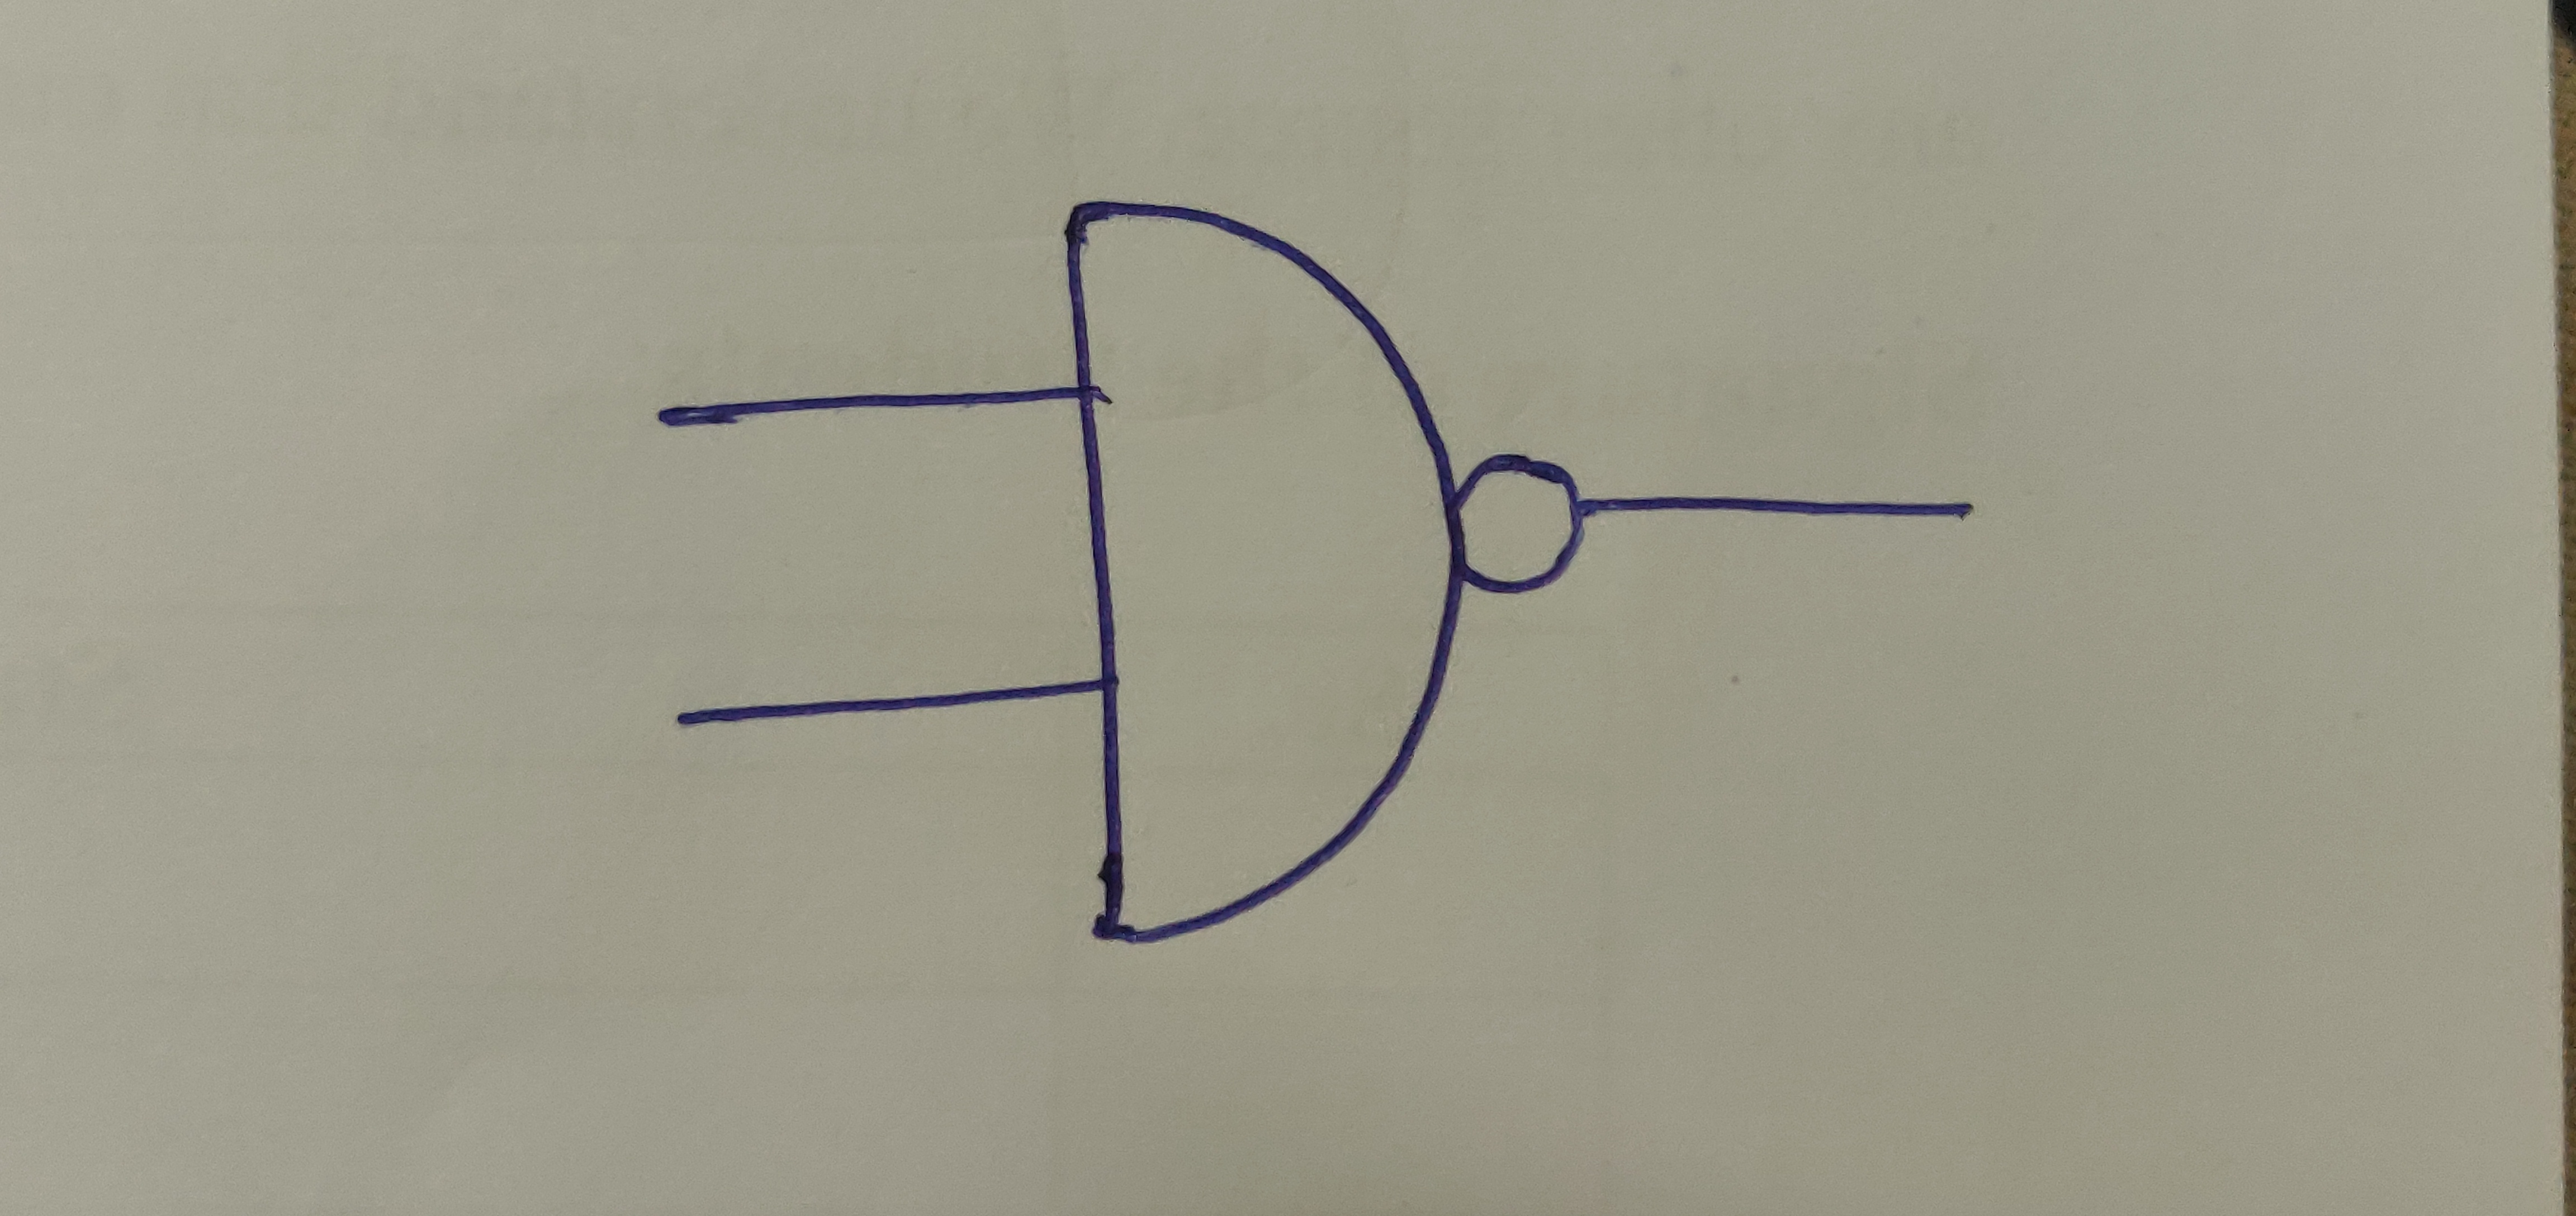and: (1053, 194, 1461, 948)
not: (1442, 460, 1585, 596)
